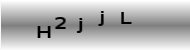2: (53, 16, 66, 30)
H: (35, 25, 51, 39)
L: (120, 11, 132, 25)
j: (75, 18, 83, 34), (97, 10, 105, 26)
